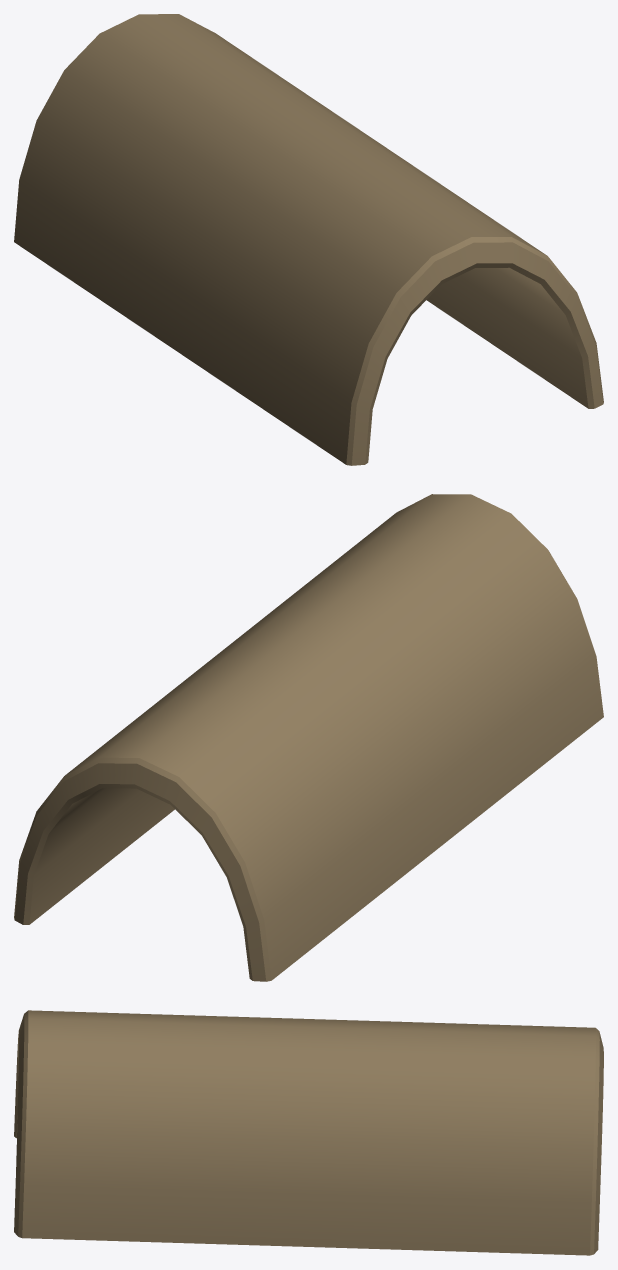
Rendered from tunnel.fbx.
3 views of the same model, one above another, from view 1: azimuth 30°, elevation 25°; view 2: azimuth 150°, elevation 25°; view 3: azimuth 270°, elevation 25° (orthographic). The views are drawn at different scales.
Parts seen in each view (by area): view 1: pCylinder2; view 2: pCylinder2; view 3: pCylinder2.
Boxes of the visible parts, bbox=[...] form: pCylinder2: bbox=[14, 14, 603, 465]; pCylinder2: bbox=[14, 494, 603, 981]; pCylinder2: bbox=[14, 1010, 603, 1255].
Size of the model in its own units: 147 by 117 by 341.
